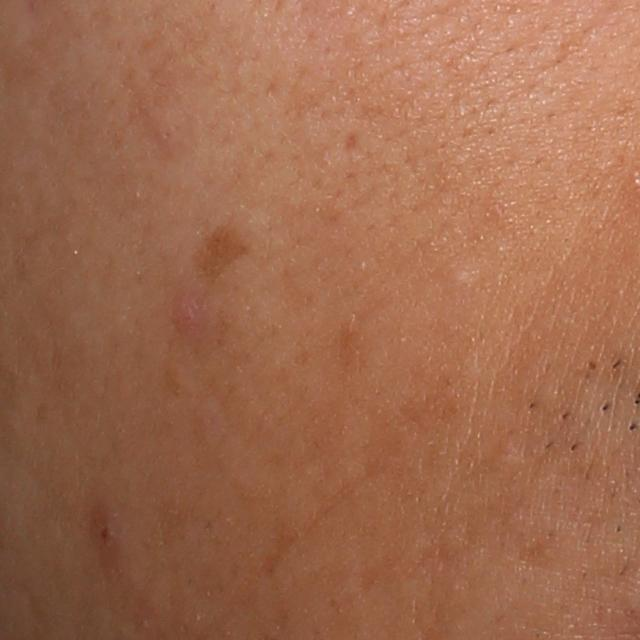atrophic_scar: (338, 127, 364, 158)
comedo: (447, 260, 478, 294)
melasma: (196, 214, 263, 292)
papule: (92, 517, 119, 552)
